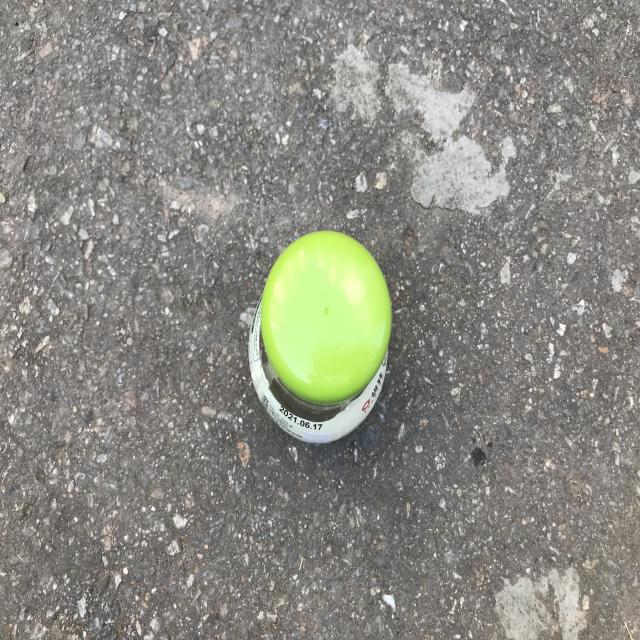glass: (248, 231, 392, 444)
